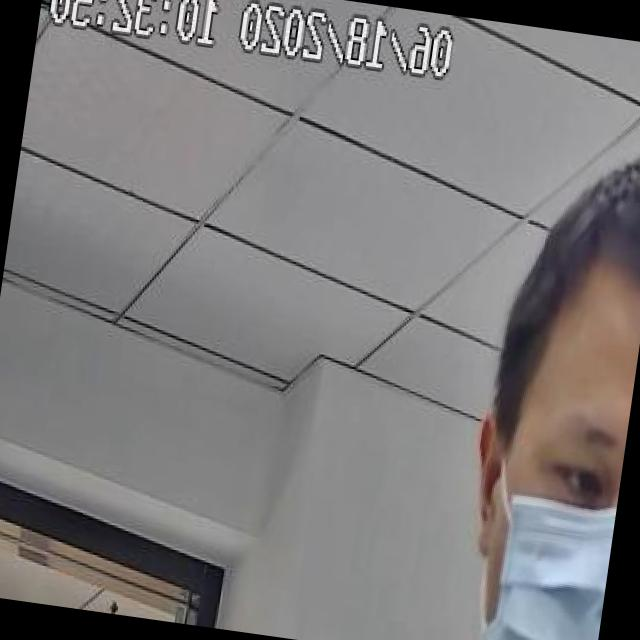Guns: (533, 617, 600, 640)
